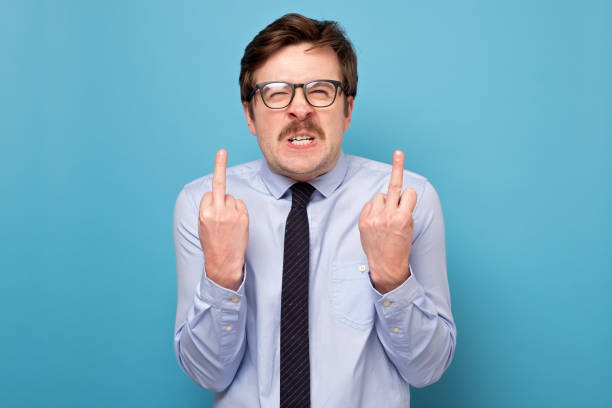insulting_gesture: (357, 149, 419, 278), (197, 150, 253, 275)
